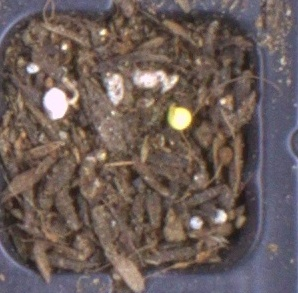chilli seed: (166, 106, 192, 131)
